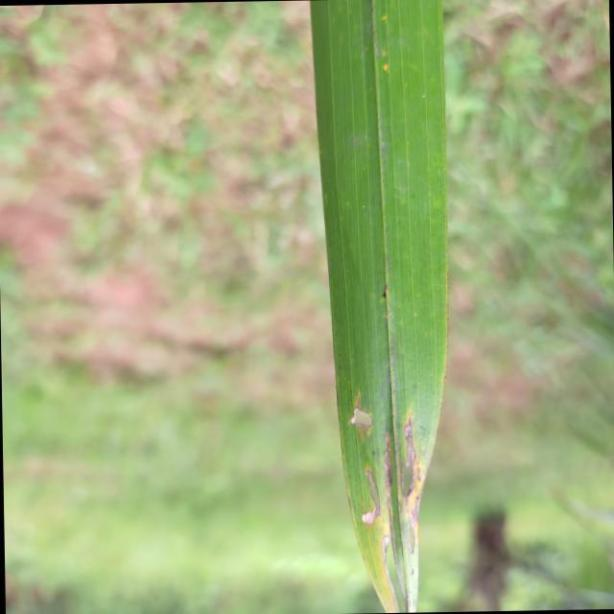Kalium: (307, 1, 451, 614)
